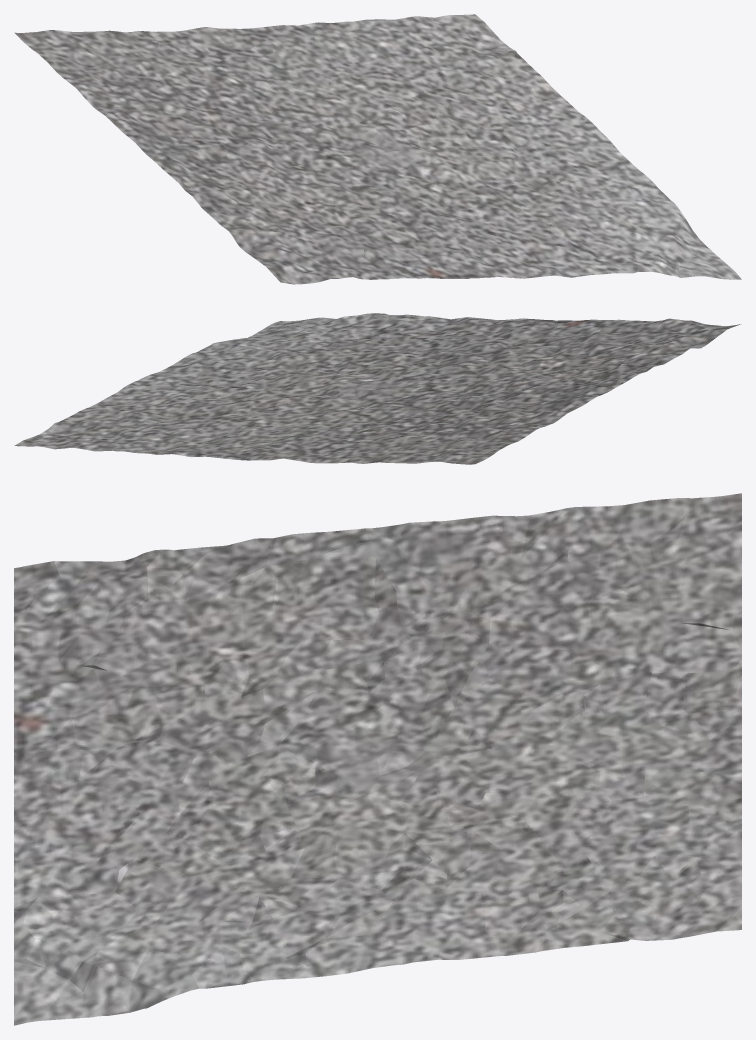
The picture shows the model from 3 angles, top to bottom: view 1: azimuth 30°, elevation 25°; view 2: azimuth 150°, elevation 25°; view 3: azimuth 270°, elevation 25°; orthographic projection. The views are drawn at different scales.
Bounding box in the file's own units: 0.8374 × 0.2853 × 0.8374.
3 materials, 3 textured.
